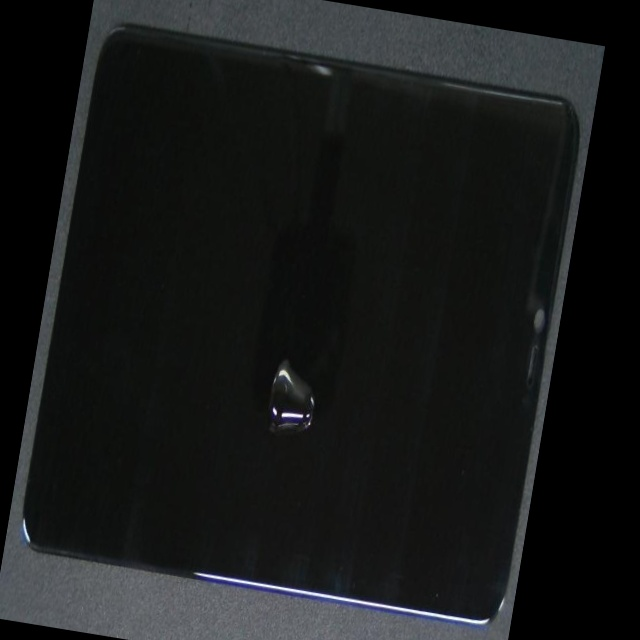oil: (162, 192, 476, 591)
